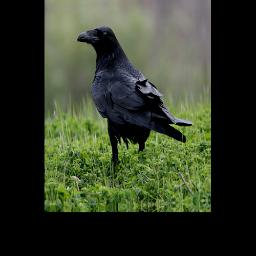Crow: (76, 20, 195, 176)
